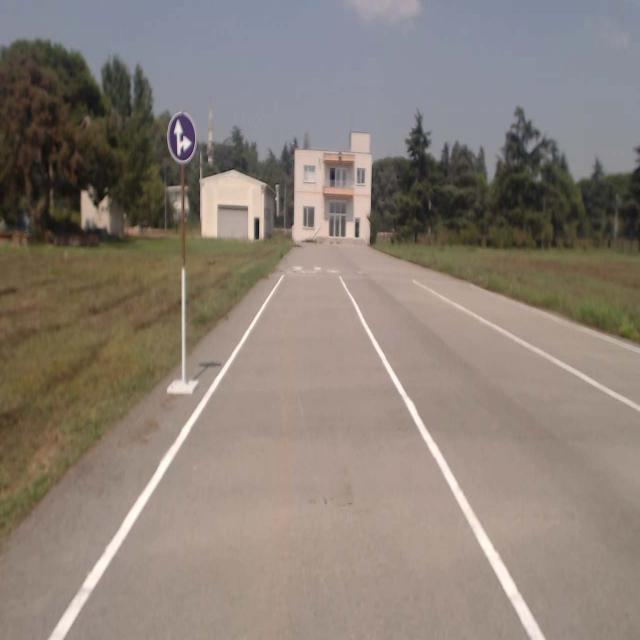ilerisag: (167, 112, 194, 160)
